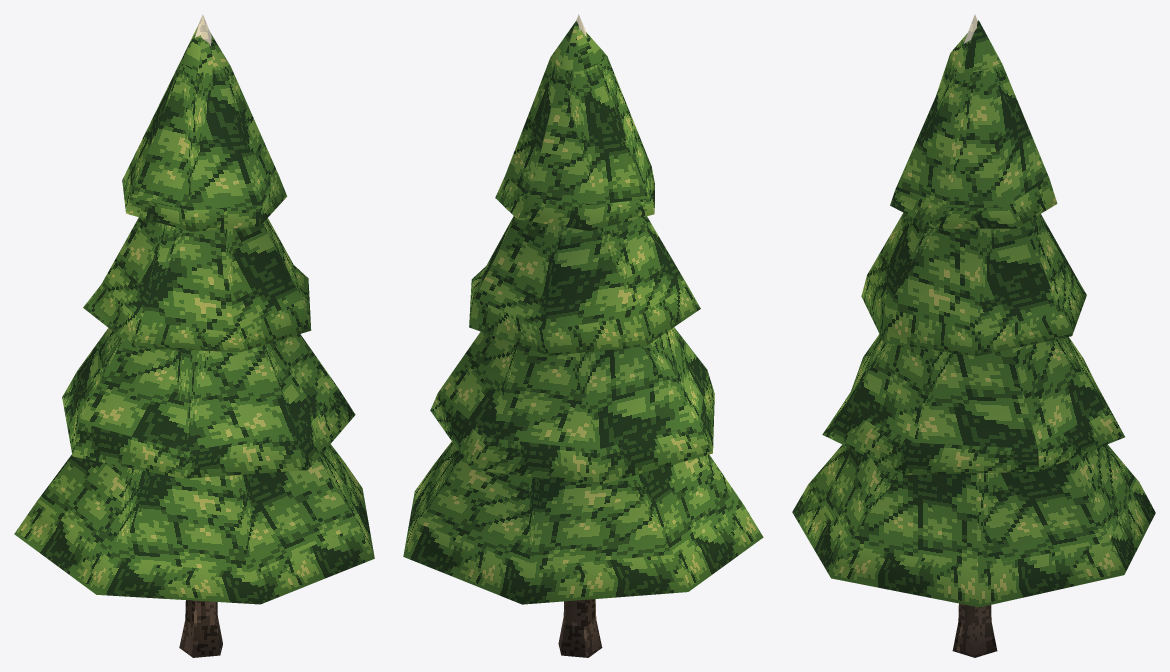
The model's file is mnat.pine__snowy.glb.
The picture shows the model from 3 angles, left to right: view 1: azimuth 30°, elevation 25°; view 2: azimuth 150°, elevation 25°; view 3: azimuth 270°, elevation 25°; orthographic projection.
Visible parts, largest first — view 1: kit_tiers, kit_trunk; view 2: kit_tiers, kit_trunk; view 3: kit_tiers, kit_trunk.
Part boxes in pixels (box(x1,y1,x2,y2)): kit_tiers: box(14, 26, 374, 604); kit_trunk: box(179, 600, 222, 657); kit_tiers: box(403, 21, 763, 604); kit_trunk: box(558, 599, 602, 657); kit_tiers: box(792, 20, 1155, 607); kit_trunk: box(952, 603, 997, 657).
Size of the model in its own units: 4.52 by 8.82 by 4.59.
Materials: 3 (3 with a texture image).
